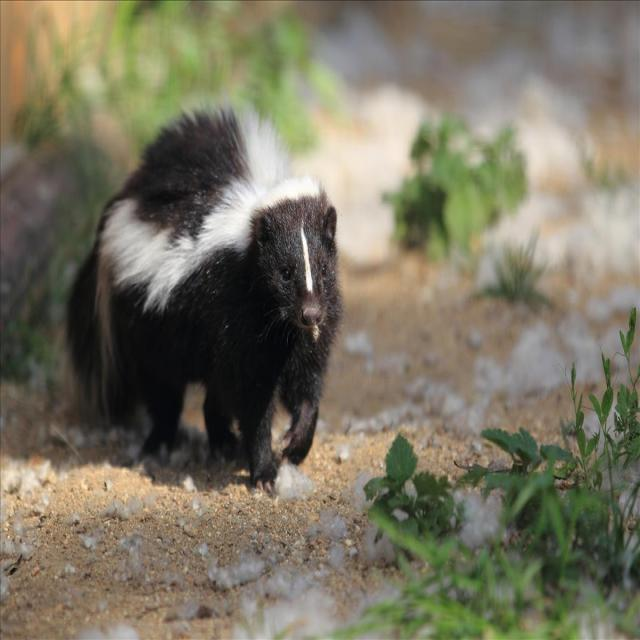Skunk: (42, 71, 351, 501)
